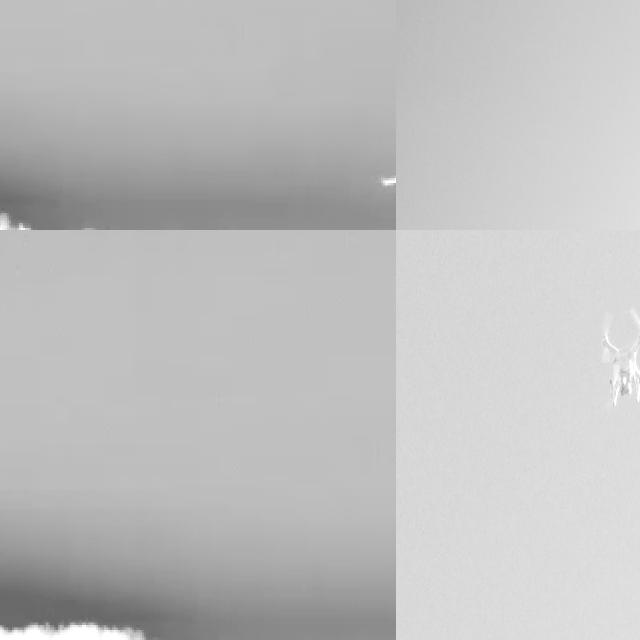1: (369, 165, 396, 202)
drone: (594, 299, 640, 415)
